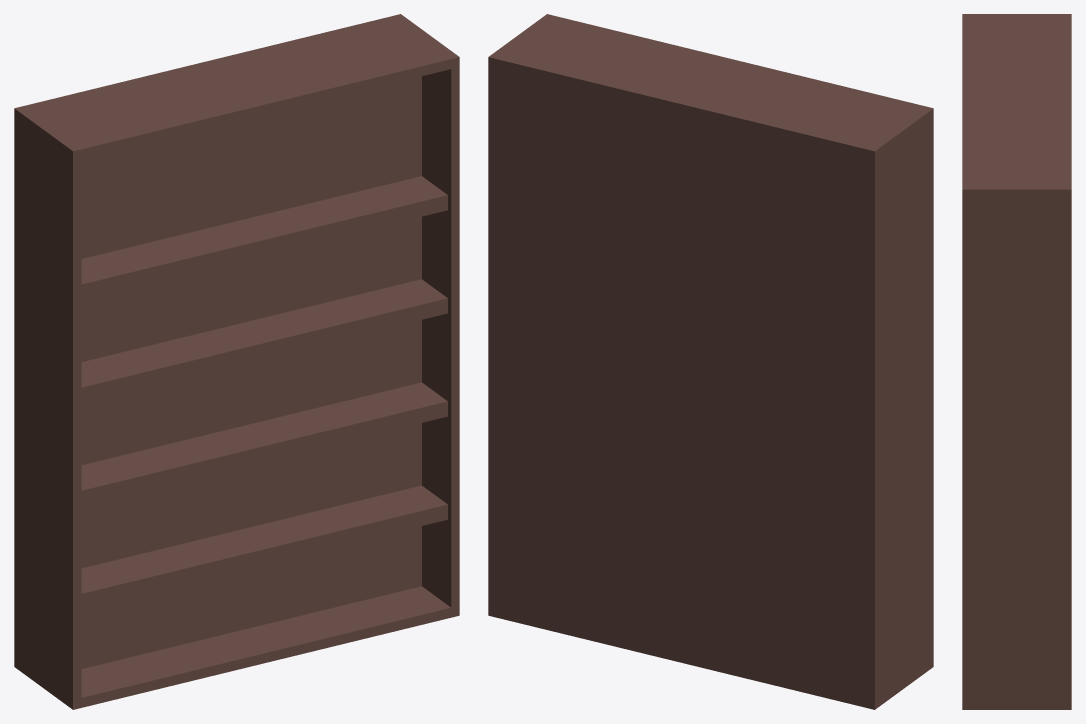
File: shelf.fbx
3 views of the same model, side by side, from view 1: azimuth 30°, elevation 25°; view 2: azimuth 150°, elevation 25°; view 3: azimuth 270°, elevation 25° (orthographic). The views are drawn at different scales.
Visible parts, largest first — view 1: pCube21; view 2: pCube21; view 3: pCube21.
Boxes of the visible parts, x1=… form: pCube21: x1=14, y1=14, x2=459, y2=709; pCube21: x1=488, y1=14, x2=933, y2=709; pCube21: x1=962, y1=14, x2=1071, y2=709.
Size of the model in its own units: 3.92 by 5.42 by 1.03.
